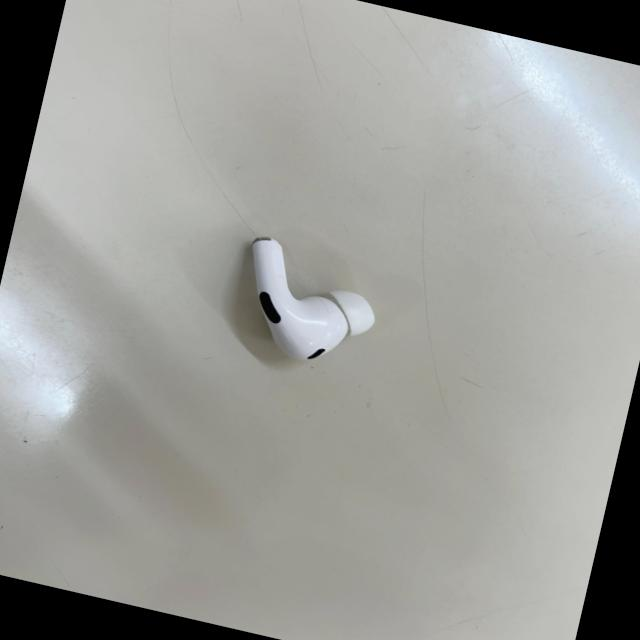inorganic: (222, 231, 390, 379)
